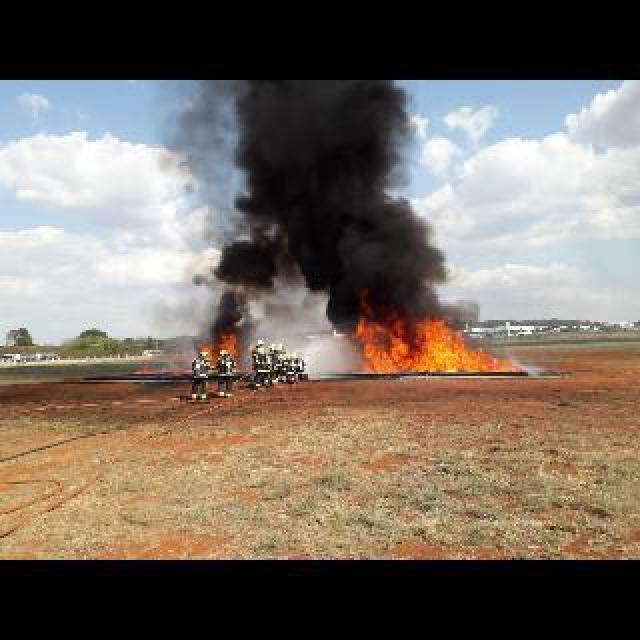Fire: (352, 310, 514, 376), (214, 334, 238, 352), (202, 344, 214, 360), (136, 366, 150, 374)
Smoke: (236, 80, 452, 320), (204, 282, 258, 340)
